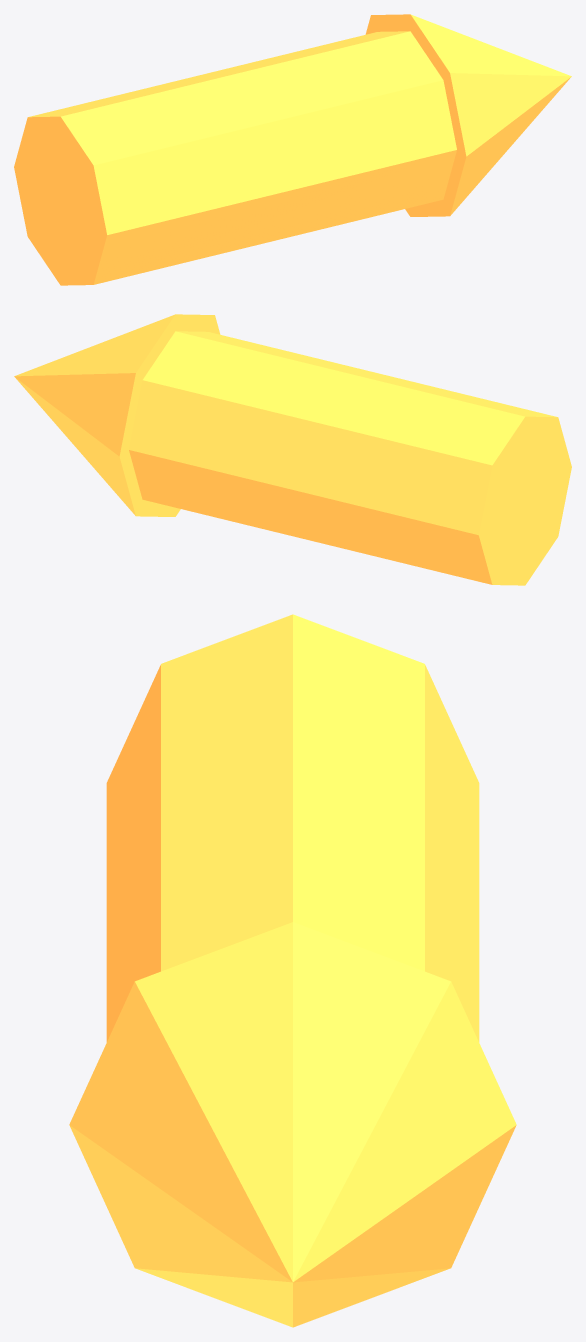
File: s15_rocket.glb
The picture shows the model from 3 angles, top to bottom: view 1: azimuth 30°, elevation 25°; view 2: azimuth 150°, elevation 25°; view 3: azimuth 270°, elevation 25°; orthographic projection. The views are drawn at different scales.
Parts seen in each view (by area): view 1: Shape.008; view 2: Shape.008; view 3: Shape.008.
Part boxes in pixels (<box>): Shape.008: <box>14,14,571,285</box>; Shape.008: <box>14,314,571,585</box>; Shape.008: <box>69,614,516,1327</box>.
Bounding box in the file's own units: 0.95 × 0.36 × 0.36.
